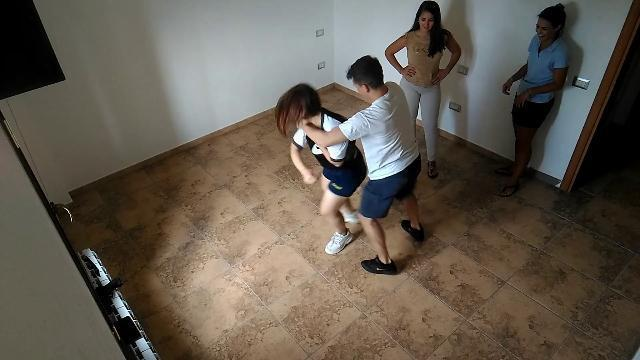non-violence: (492, 3, 572, 200), (382, 1, 464, 181)
violence: (276, 55, 426, 278)
